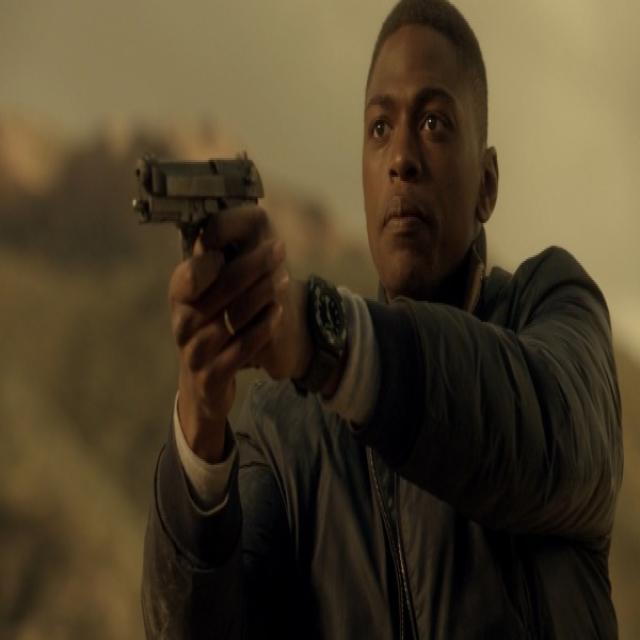weapons: (126, 129, 276, 387)
